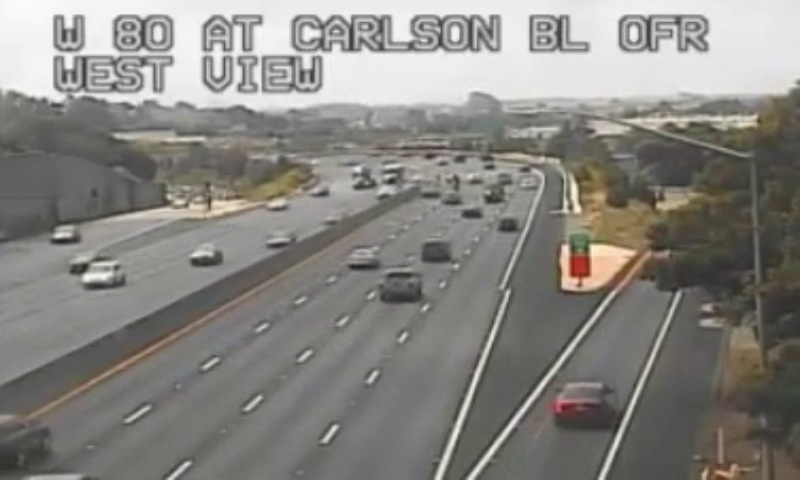car: (555, 382, 612, 424), (380, 267, 423, 303), (422, 238, 453, 263), (346, 247, 378, 267)
